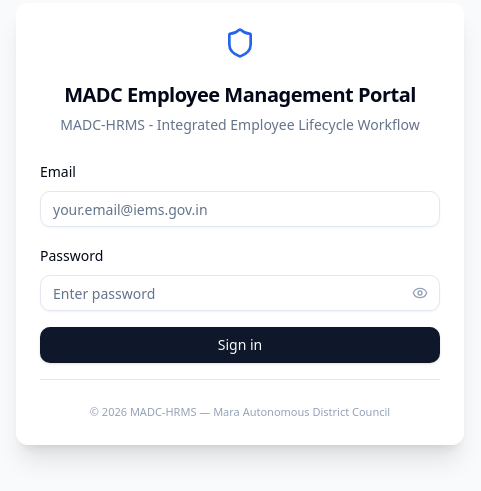
Test: LoginPage › shows inline validation for malformed email addresses
Type "abc" into the field with test id "login-email-input".
click(240, 209); type("abc")  # box 40,191 -> 440,227
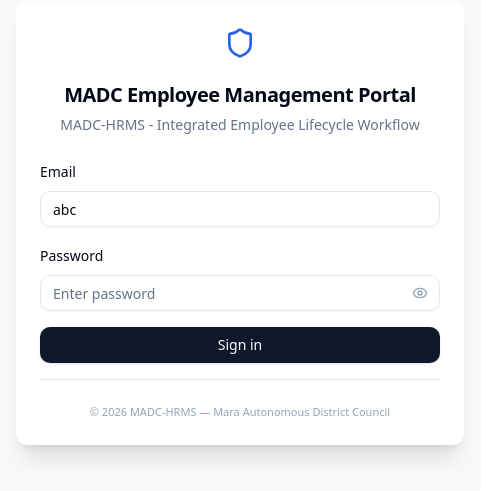
Type "password123" into the password field with test id "login-password-input".
click(240, 293); type("password123")  # box 40,275 -> 440,311
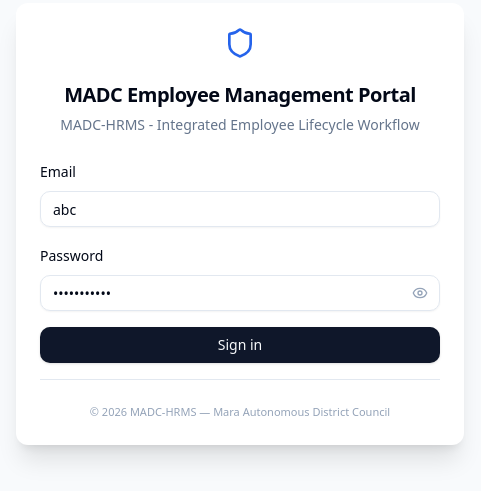
Click the button with test id "login-submit-btn".
click(240, 345)  # box 40,327 -> 440,363
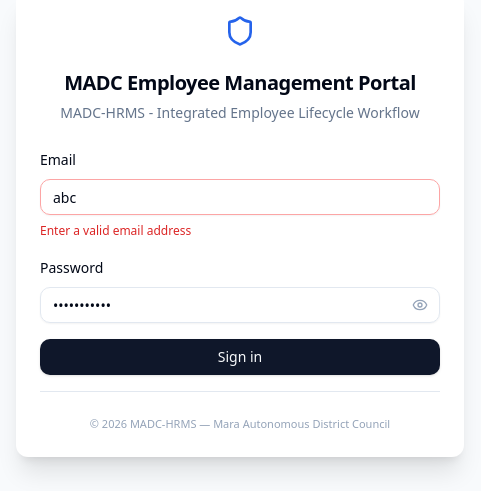
expect the text "Enter a valid email address" is shown: met, box 40,222 -> 191,239
